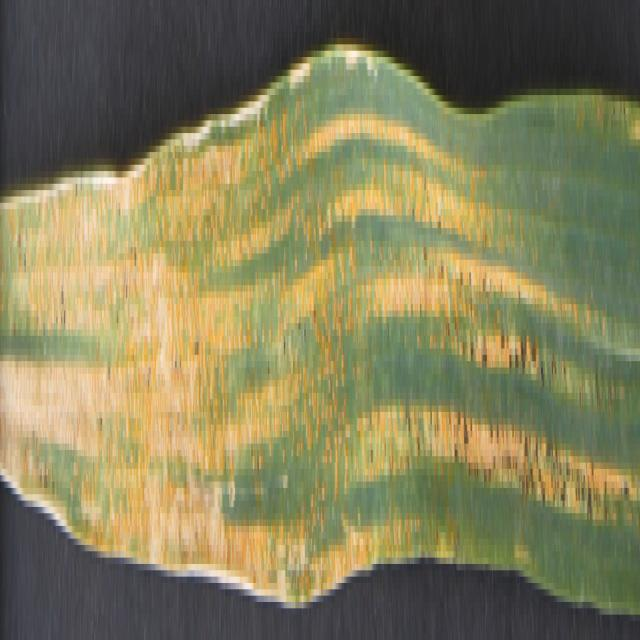leaf rust: (3, 44, 639, 577)
